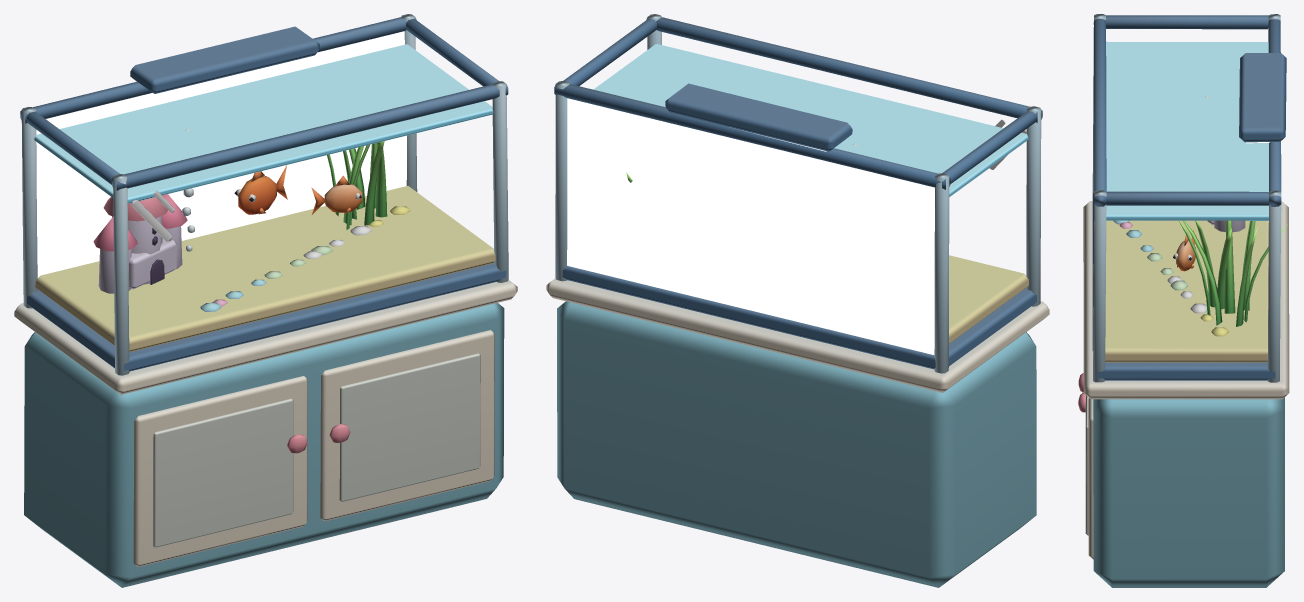
File: furn-fishTank.glb
3 renders of one model, left to right at view 1: azimuth 30°, elevation 25°; view 2: azimuth 150°, elevation 25°; view 3: azimuth 270°, elevation 25°, orthographic. The views are drawn at different scales.
Parts seen in each view (by area): view 1: furn; view 2: furn; view 3: furn.
Boxes of the visible parts, x1,y1,x2,y2 form: furn: [14, 14, 517, 587]; furn: [546, 14, 1049, 587]; furn: [1078, 14, 1289, 587].
Bounding box in the file's own units: 0.9506 × 0.975 × 0.4524.
